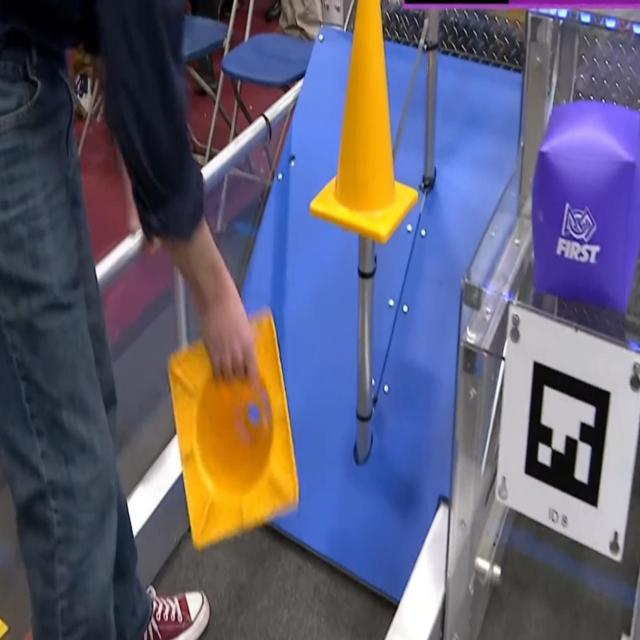frc_cone: (162, 308, 298, 544), (309, 0, 418, 245)
frc_cube: (532, 97, 640, 311)
